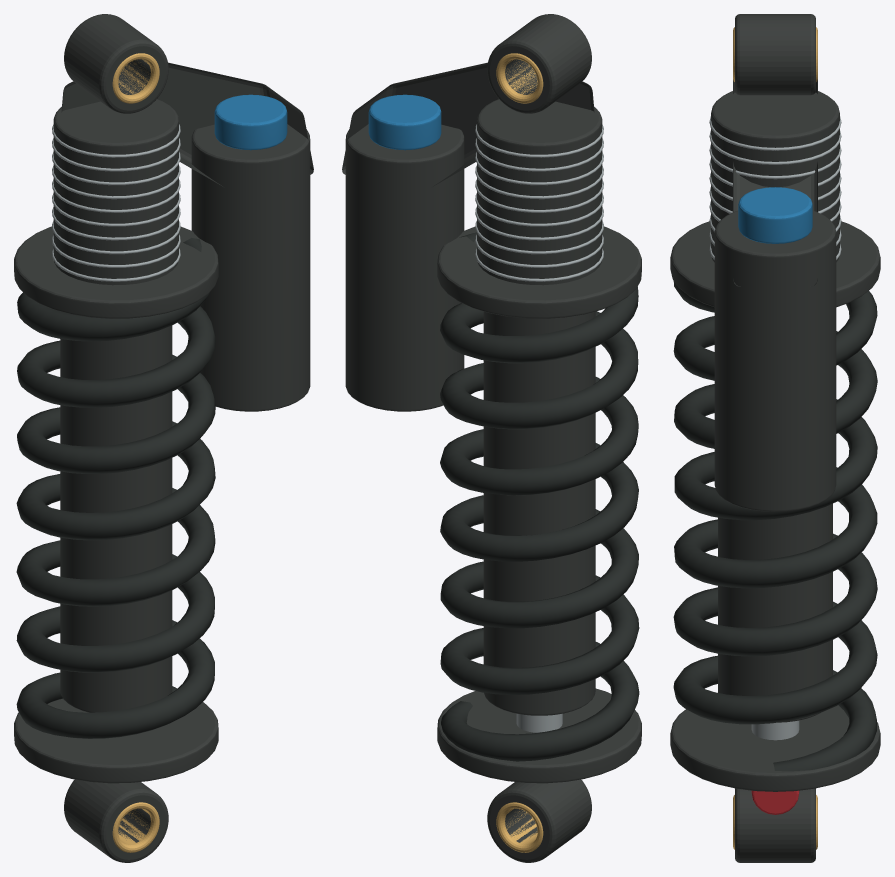
The model's file is marzocchi-bomber-cr--50f4a843.glb.
The picture shows the model from 3 angles, left to right: view 1: azimuth 30°, elevation 25°; view 2: azimuth 150°, elevation 25°; view 3: azimuth 270°, elevation 25°; orthographic projection. The views are drawn at different scales.
Visible parts, largest first — view 1: marzocchi-bomber-cr--50f4a843__link, marzocchi-bomber-cr--50f4a843__coil, marzocchi-bomber-cr--50f4a843__bolts, marzocchi-bomber-cr--50f4a843__adjuster, marzocchi-bomber-cr--50f4a843__stanchions; view 2: marzocchi-bomber-cr--50f4a843__link, marzocchi-bomber-cr--50f4a843__coil, marzocchi-bomber-cr--50f4a843__bolts, marzocchi-bomber-cr--50f4a843__adjuster, marzocchi-bomber-cr--50f4a843__stanchions; view 3: marzocchi-bomber-cr--50f4a843__link, marzocchi-bomber-cr--50f4a843__coil, marzocchi-bomber-cr--50f4a843__adjuster, marzocchi-bomber-cr--50f4a843__bolts, marzocchi-bomber-cr--50f4a843__rebound, marzocchi-bomber-cr--50f4a843__stanchions.
Boxes of the visible parts, x1,y1,x2,y2 form: marzocchi-bomber-cr--50f4a843__link: [14, 14, 313, 862]; marzocchi-bomber-cr--50f4a843__coil: [16, 237, 215, 738]; marzocchi-bomber-cr--50f4a843__bolts: [52, 124, 180, 281]; marzocchi-bomber-cr--50f4a843__adjuster: [214, 94, 287, 150]; marzocchi-bomber-cr--50f4a843__stanchions: [112, 53, 159, 852]; marzocchi-bomber-cr--50f4a843__link: [342, 14, 641, 862]; marzocchi-bomber-cr--50f4a843__coil: [440, 232, 639, 761]; marzocchi-bomber-cr--50f4a843__bolts: [475, 124, 603, 732]; marzocchi-bomber-cr--50f4a843__adjuster: [368, 94, 441, 150]; marzocchi-bomber-cr--50f4a843__stanchions: [496, 53, 543, 852]; marzocchi-bomber-cr--50f4a843__link: [670, 14, 880, 862]; marzocchi-bomber-cr--50f4a843__coil: [673, 281, 877, 771]; marzocchi-bomber-cr--50f4a843__adjuster: [738, 187, 812, 243]; marzocchi-bomber-cr--50f4a843__bolts: [709, 116, 841, 740]; marzocchi-bomber-cr--50f4a843__rebound: [751, 790, 799, 814]; marzocchi-bomber-cr--50f4a843__stanchions: [733, 27, 817, 849].
Size of the model in its own units: 0.096 by 0.274 by 0.062.
